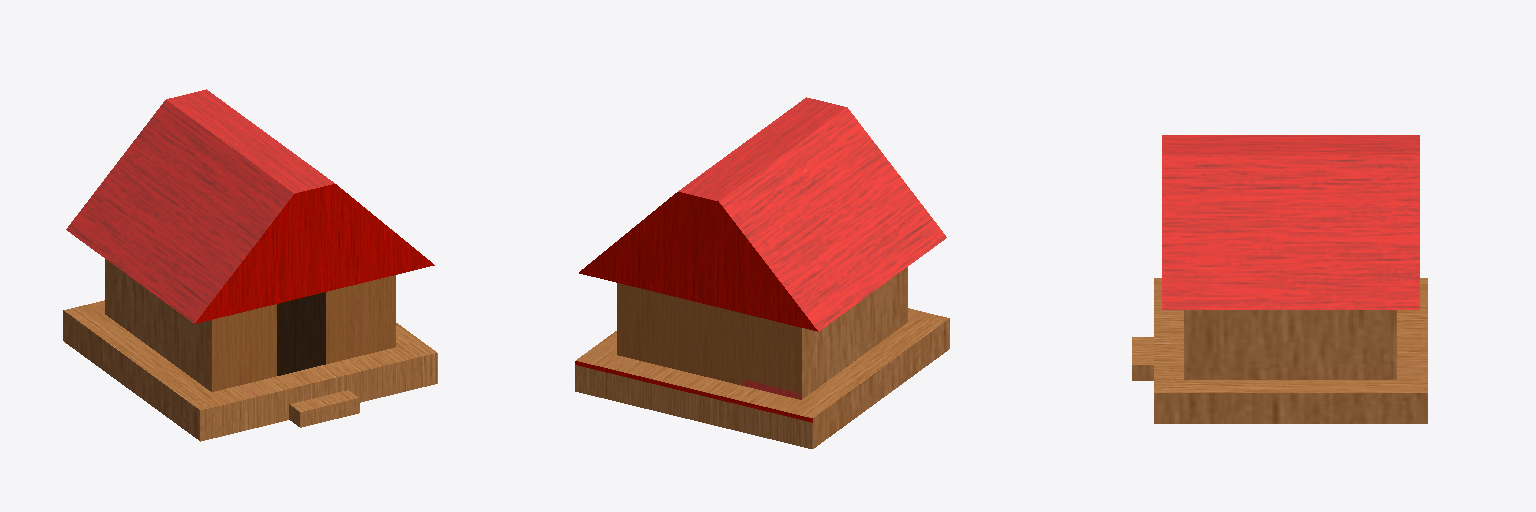
3 renders of one model, left to right at view 1: azimuth 30°, elevation 25°; view 2: azimuth 150°, elevation 25°; view 3: azimuth 270°, elevation 25°, orthographic.
Parts seen in each view (by area): view 1: 立方体.001; view 2: 立方体.001; view 3: 立方体.001.
Boxes of the visible parts, <box> form: 立方体.001: <box>63,89,437,441</box>; 立方体.001: <box>575,97,949,448</box>; 立方体.001: <box>1132,135,1427,423</box>.
Size of the model in its own units: 5.23 by 4.59 by 5.56.
1 materials, 1 textured.